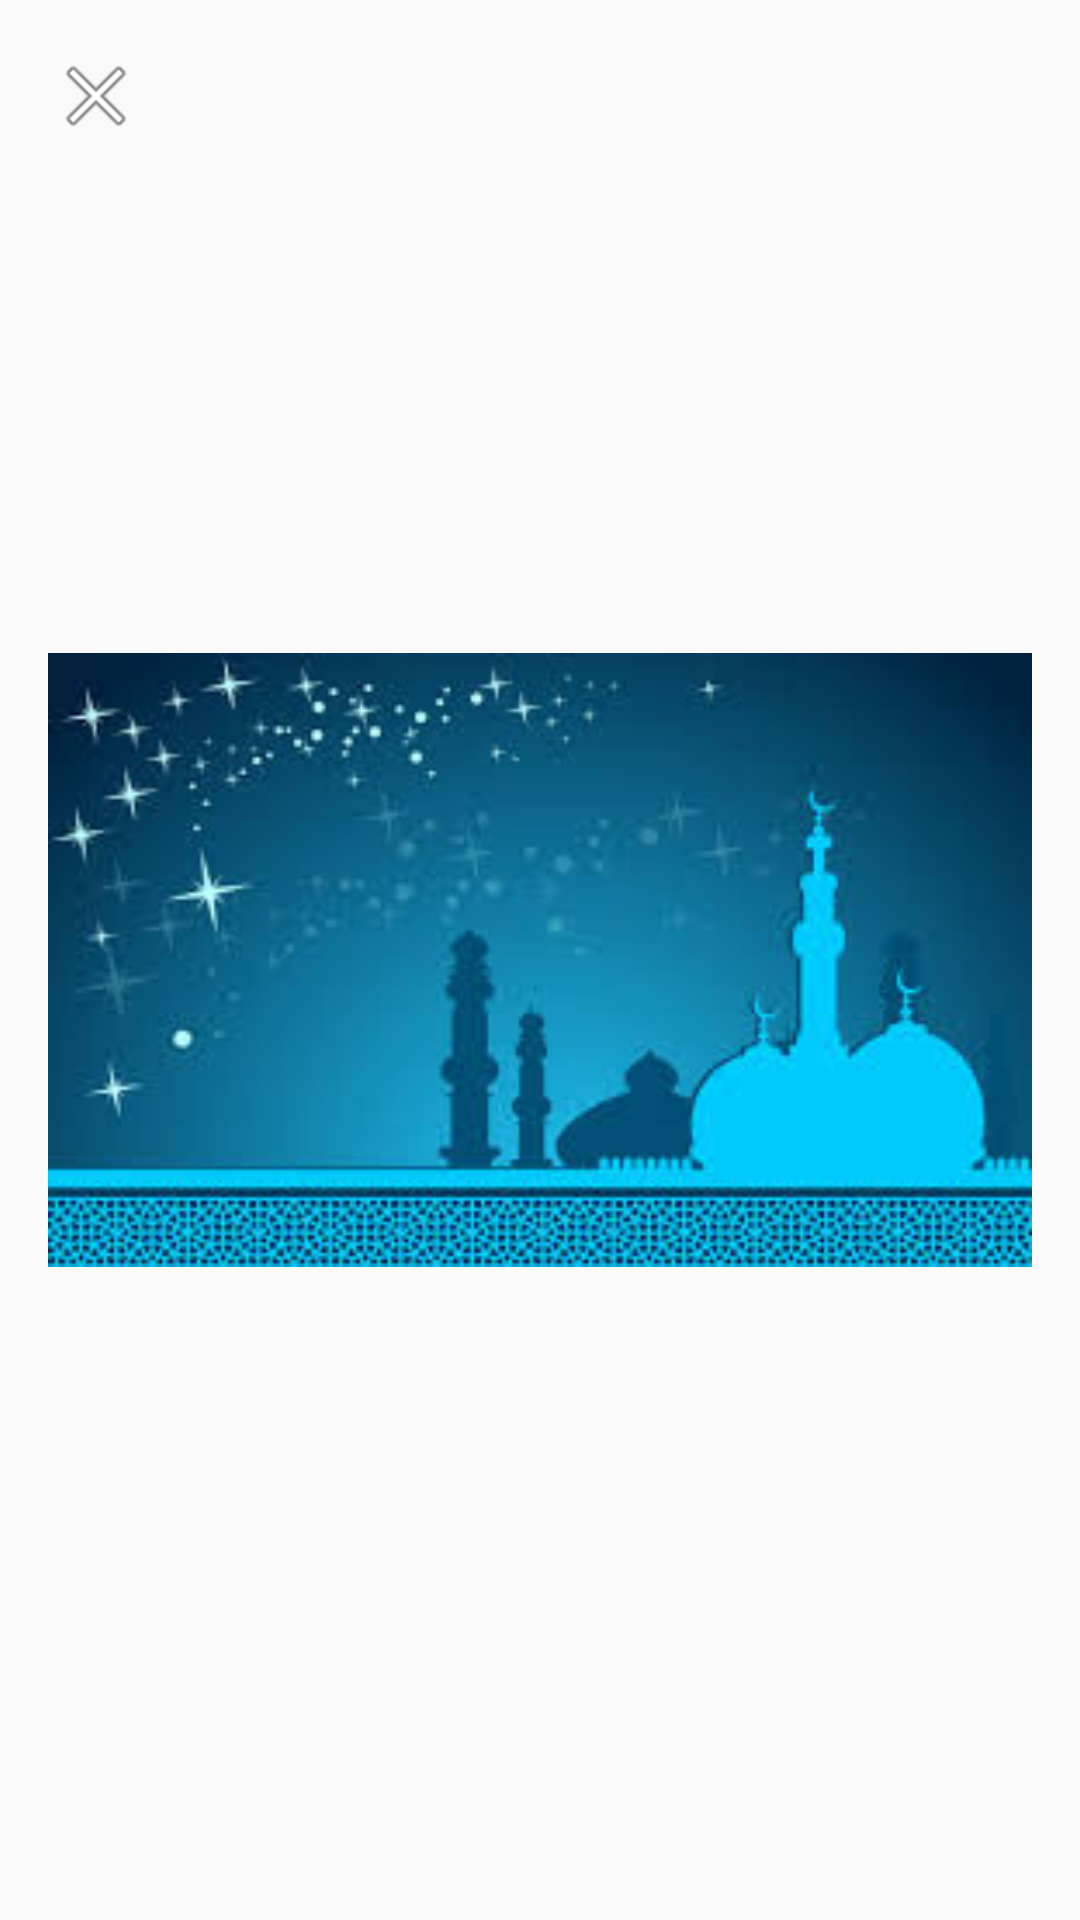

Named icons in this screenshot (1080px x 1920px) and their centers, (x,y):
close clear cancel: (96,96)
